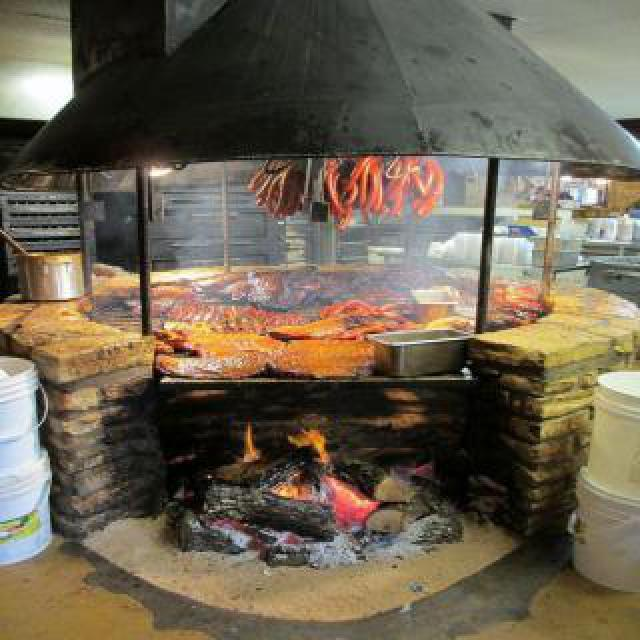fire: (252, 422, 316, 484)
